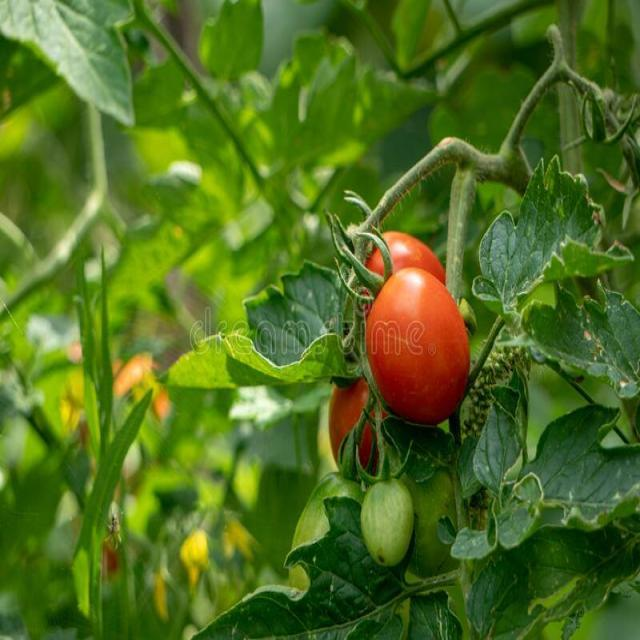kirmizi: (346, 260, 488, 424)
